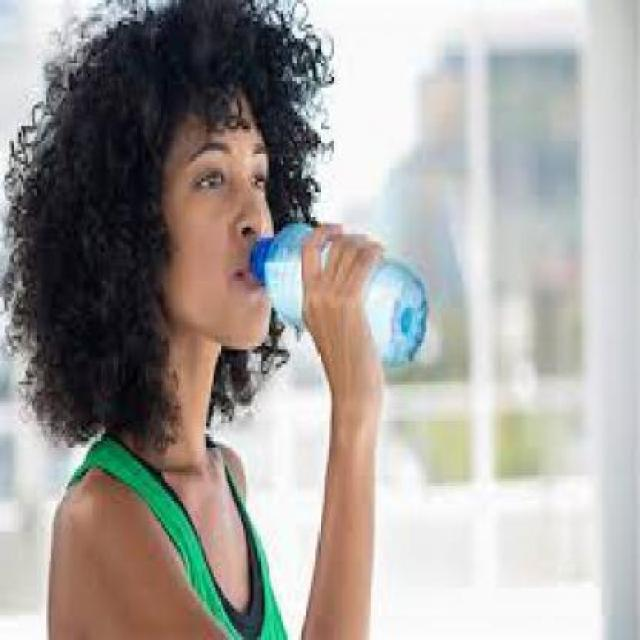Drinking: (248, 209, 432, 420)
